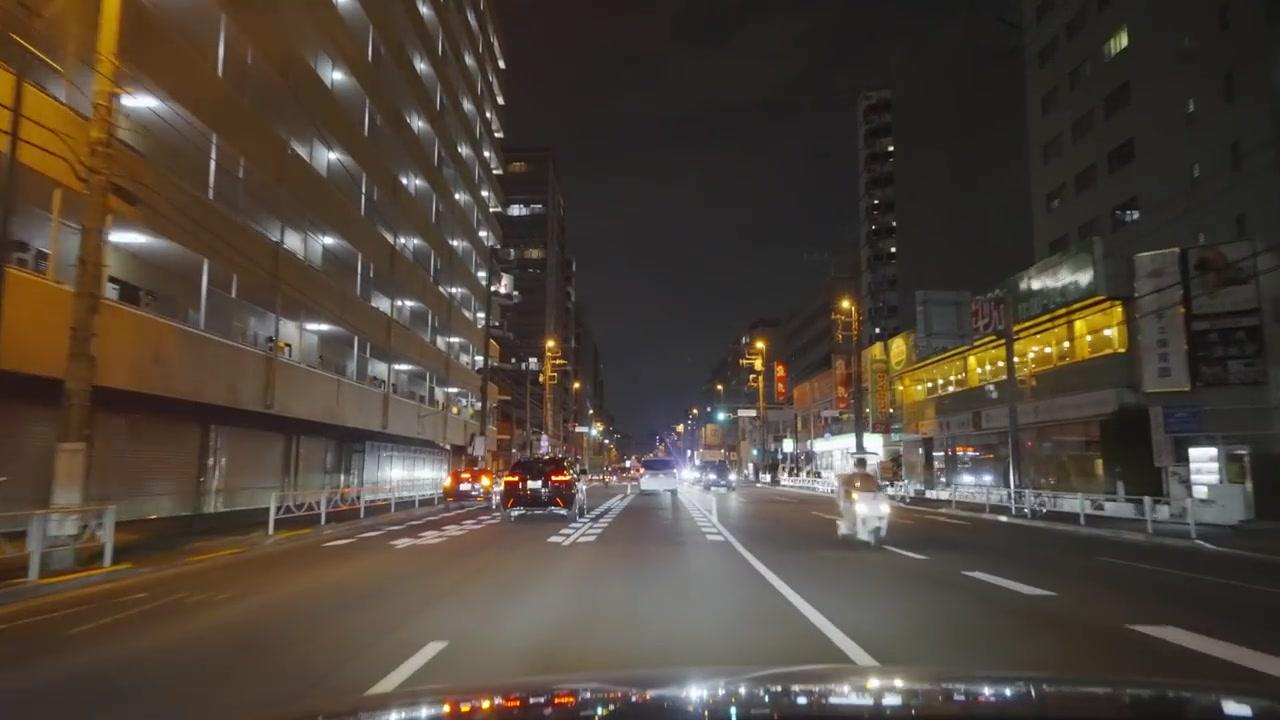car: (499, 455, 579, 519), (835, 457, 891, 548), (441, 468, 491, 503), (638, 457, 681, 494), (698, 465, 733, 491)
person: (835, 457, 891, 548)
